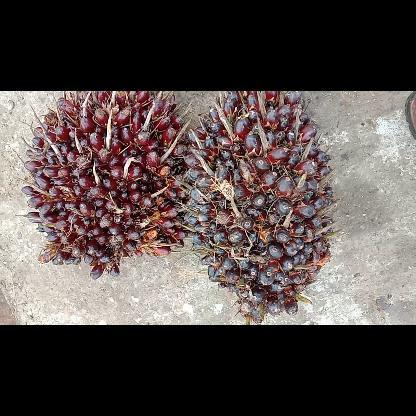Kurang masak: (21, 91, 188, 281)
TBS masak: (191, 90, 337, 324)
